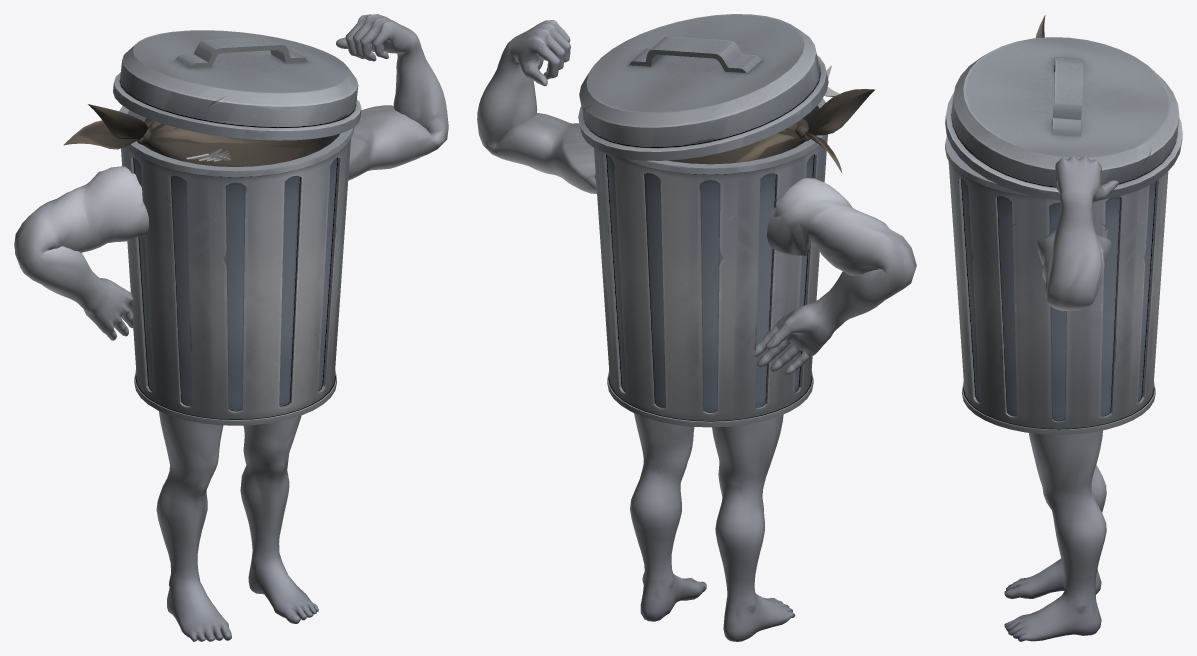
Rendered from Bote.obj.
3 views of the same model, side by side, from view 1: azimuth 30°, elevation 25°; view 2: azimuth 150°, elevation 25°; view 3: azimuth 270°, elevation 25° (orthographic). The views are drawn at different scales.
Visible parts, largest first — view 1: 00_mesh; view 2: 00_mesh; view 3: 00_mesh.
Boxes of the visible parts, x1,y1,x2,y2 form: 00_mesh: (14,14,448,641); 00_mesh: (477,14,916,641); 00_mesh: (945,15,1182,641).
Bounding box in the file's own units: 4.84 × 6.19 × 2.45.
